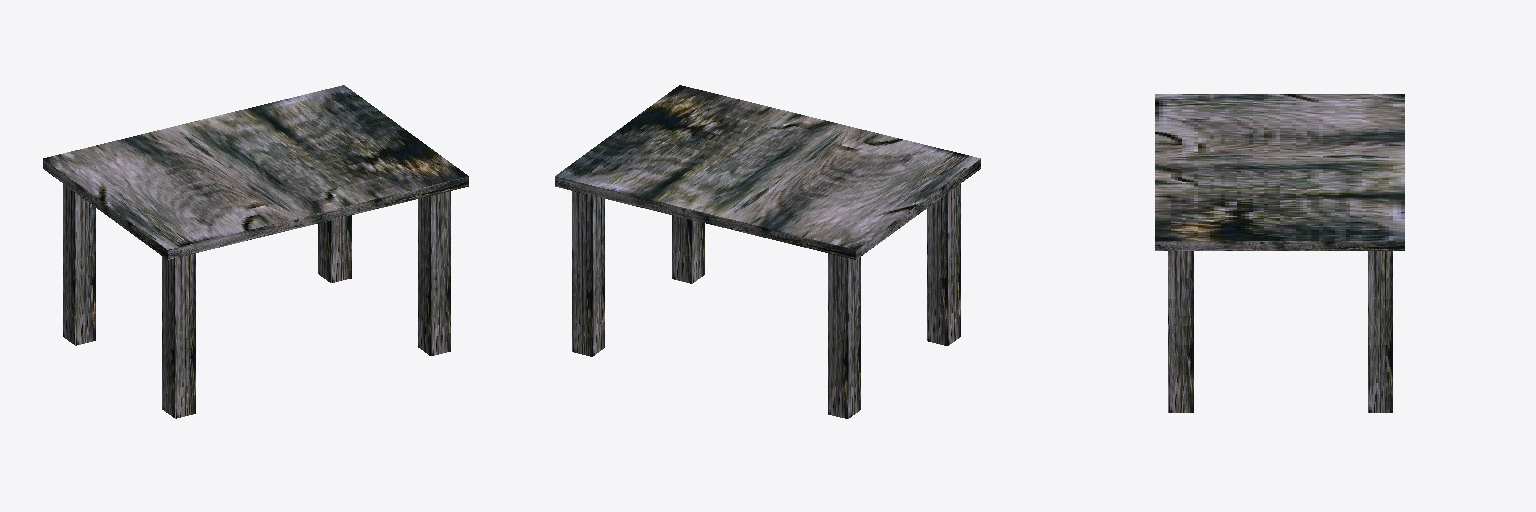
The picture shows the model from 3 angles: view 1: azimuth 30°, elevation 25°; view 2: azimuth 150°, elevation 25°; view 3: azimuth 270°, elevation 25°; orthographic projection.
Visible parts, largest first — view 1: Box535, Box7470, Box536, Box538, Box537; view 2: Box535, Box538, Box537, Box7470, Box536; view 3: Box535, Box536, Box537.
Part boxes in pixels (x1,y1,x2,y2): Box535: (43,85,468,259); Box7470: (162,253,195,418); Box536: (418,191,450,355); Box538: (63,184,95,345); Box537: (318,215,351,282); Box535: (555,85,980,259); Box538: (828,253,860,418); Box537: (572,191,604,356); Box7470: (927,184,960,345); Box536: (672,215,704,283); Box535: (1155,94,1404,250); Box536: (1168,251,1193,412); Box537: (1368,251,1392,412).
Bounding box in the file's own units: 9.36 × 5.25 × 6.71.
1 materials, 1 textured.